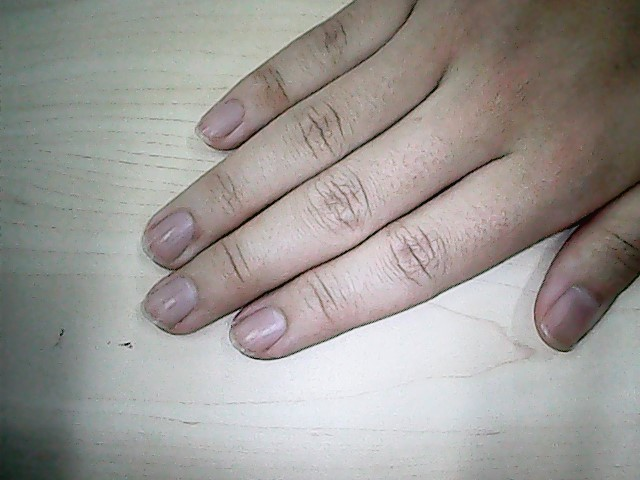nail: (535, 307, 601, 350), (140, 226, 194, 257), (144, 291, 190, 322), (234, 319, 285, 343), (201, 106, 239, 134)
